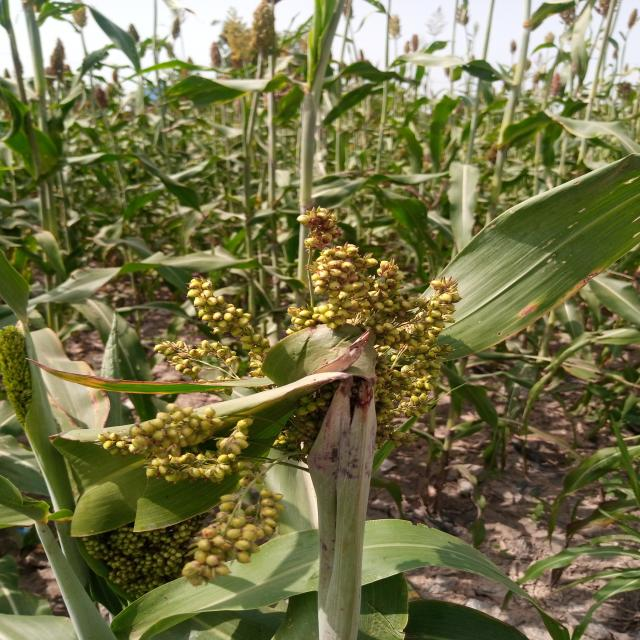UnripeSorghum: (211, 238, 468, 466)
